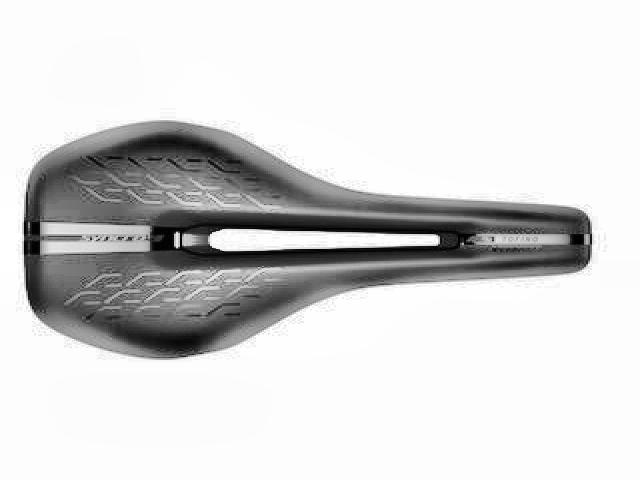saddle: (24, 117, 595, 360)
